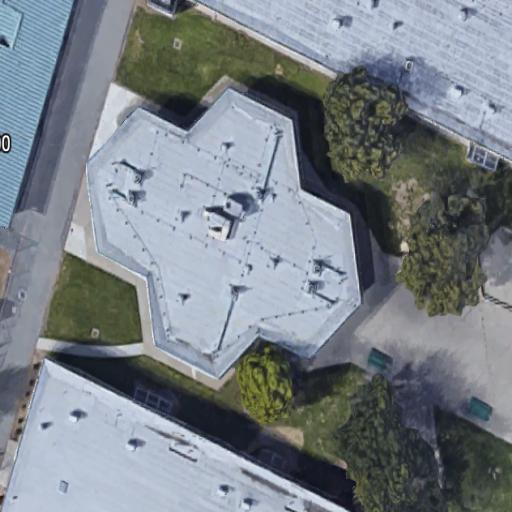Flat Roof: (85, 92, 362, 378)
